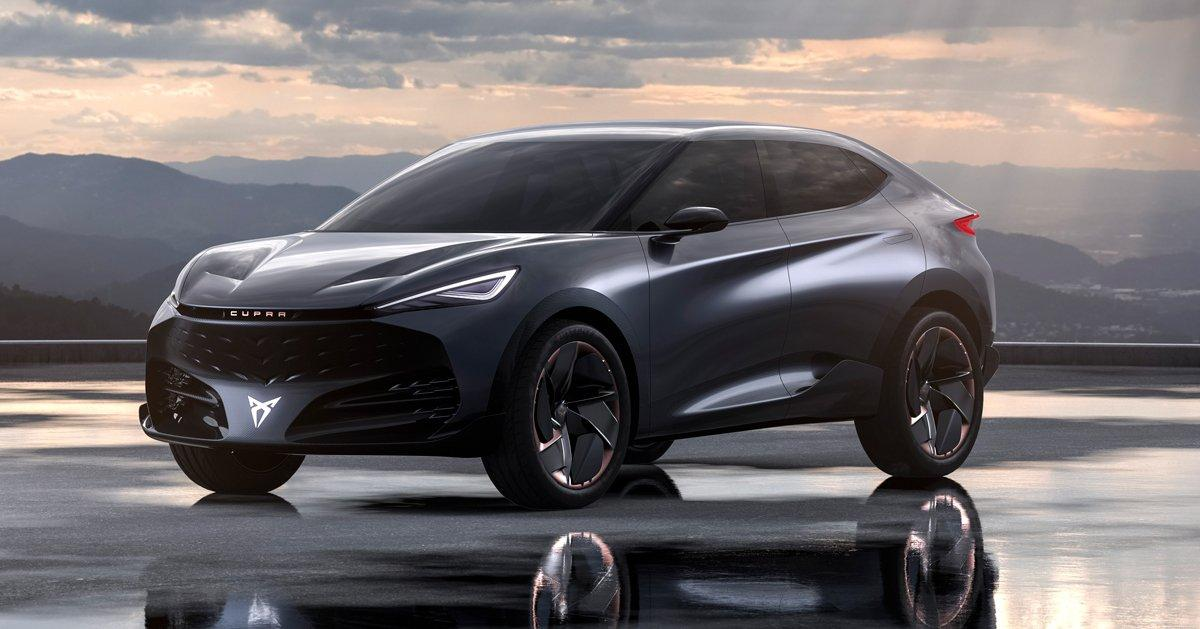car: (111, 120, 985, 499)
